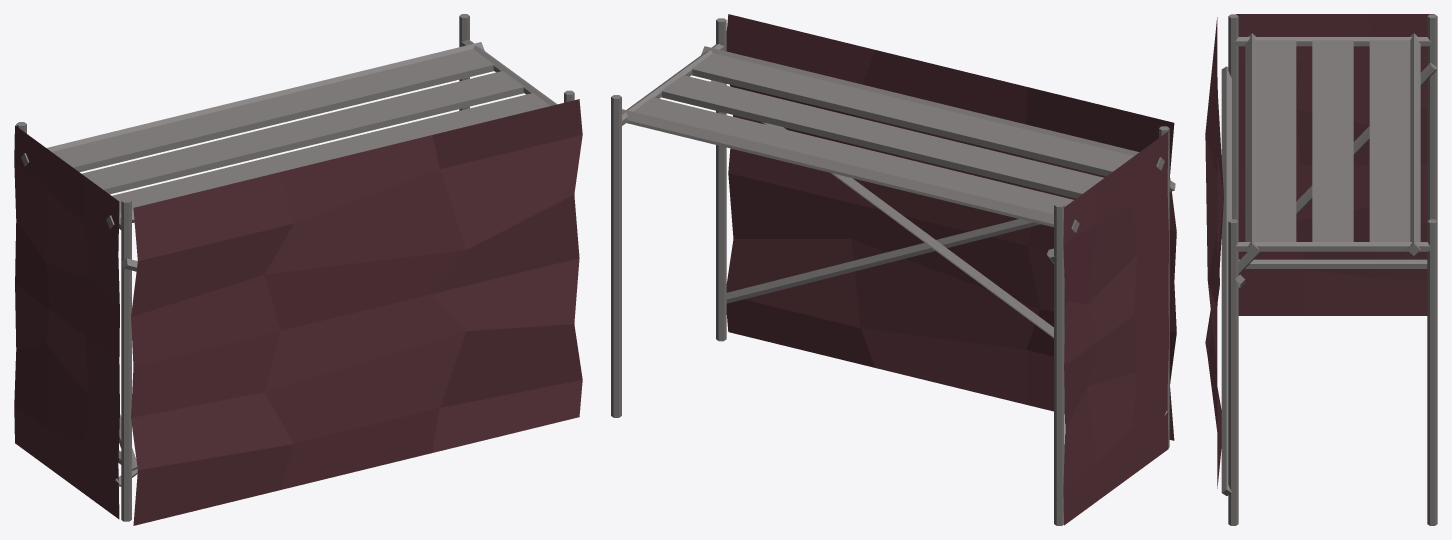
Rendered from scaffolding-floor-end-covered.fbx.
The picture shows the model from 3 angles, left to right: view 1: azimuth 30°, elevation 25°; view 2: azimuth 150°, elevation 25°; view 3: azimuth 270°, elevation 25°; orthographic projection. The views are drawn at different scales.
Visible parts, largest first — view 1: scaffolding-floor-end-covered; view 2: scaffolding-floor-end-covered; view 3: scaffolding-floor-end-covered.
Boxes of the visible parts, x1,y1,x2,y2 form: scaffolding-floor-end-covered: [14, 14, 582, 525]; scaffolding-floor-end-covered: [611, 14, 1176, 525]; scaffolding-floor-end-covered: [1205, 14, 1437, 525].
Size of the model in its own units: 3.01 by 2.01 by 1.39.
